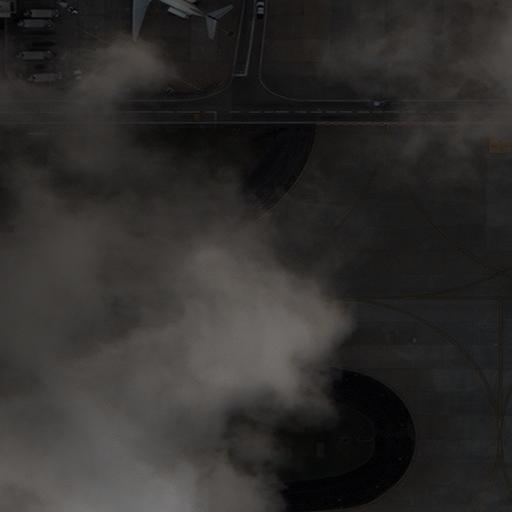Medium Civil Transport: (103, 0, 220, 37)
